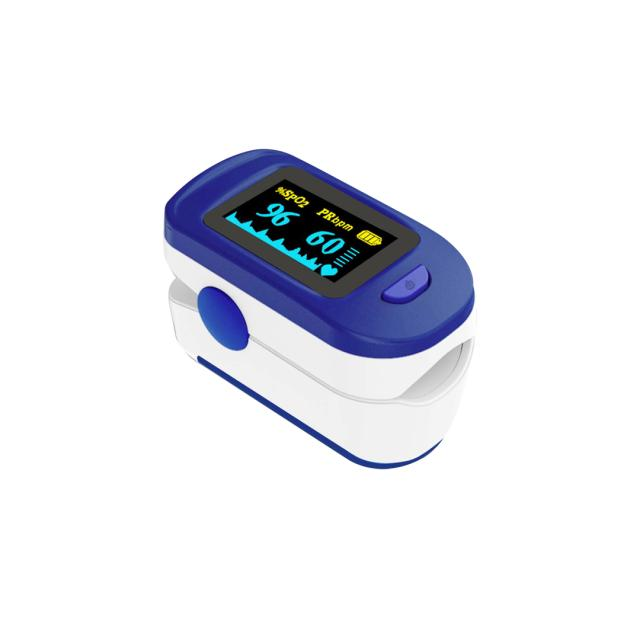oximeter: (164, 121, 485, 486)
